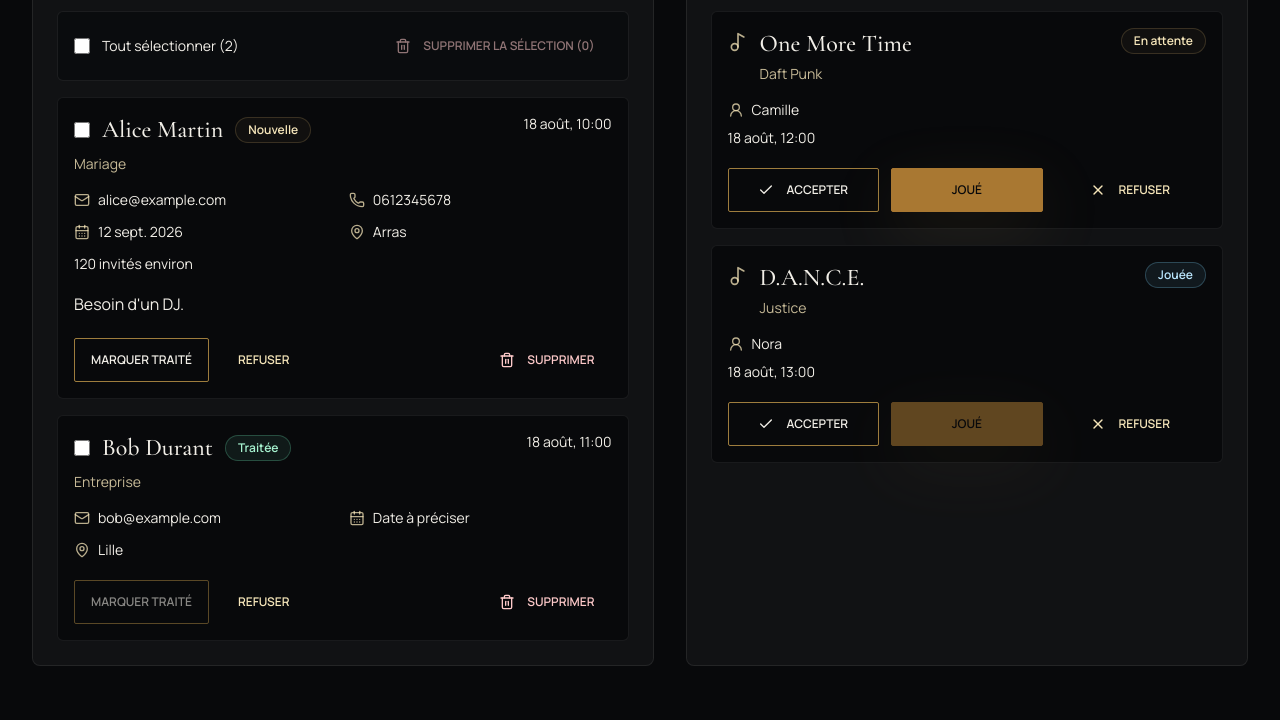
Test case: AdminPage › quote deletion › deletes a single quote after confirmation
The image size is (1280, 720).
(page scrolled)
Expected: the heading "Alice Martin" is shown, [102, 114, 223, 146]
Click the button "Supprimer" below "Arras". click: (547, 360)
box: [482, 338, 612, 382]
(page scrolled)
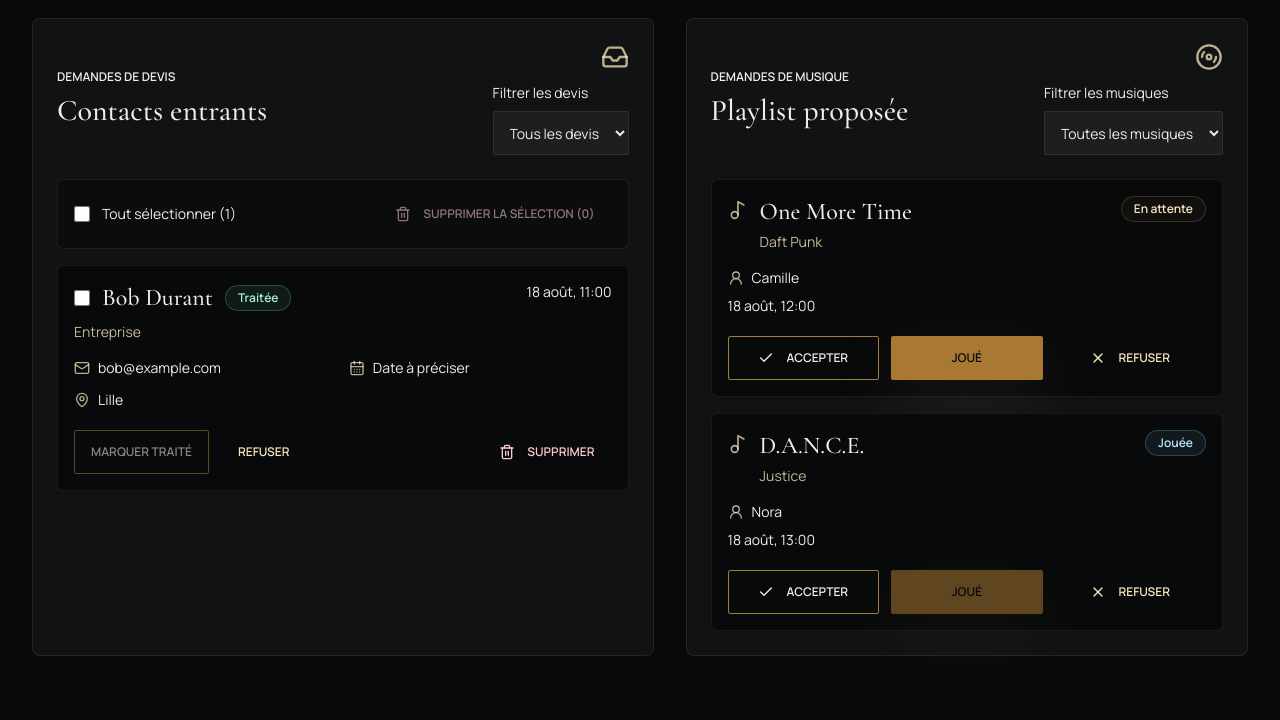
Expected: the heading "Bob Durant" is shown, [102, 282, 213, 314]
Expected: the heading "Alice Martin" is gone
